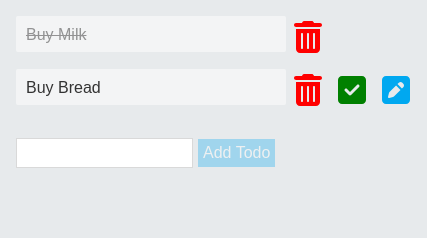
TodoApp › add new todo
Type "go to fitness center" into the field at point(104, 153), box x1=16 y1=138 x2=193 y2=168
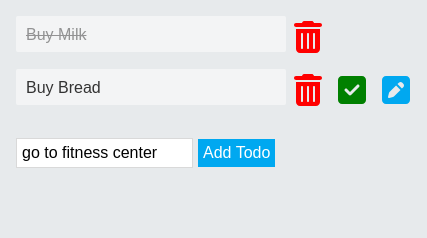
Click the button "Add Todo" at point(237, 153), box x1=198 y1=139 x2=275 y2=167
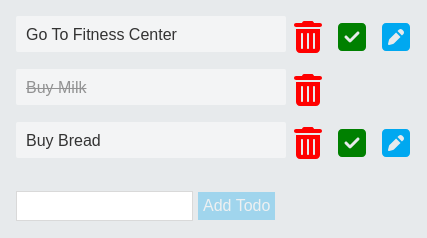
Check: the text "go to fitness center" is shown, box x1=26 y1=26 x2=177 y2=42
